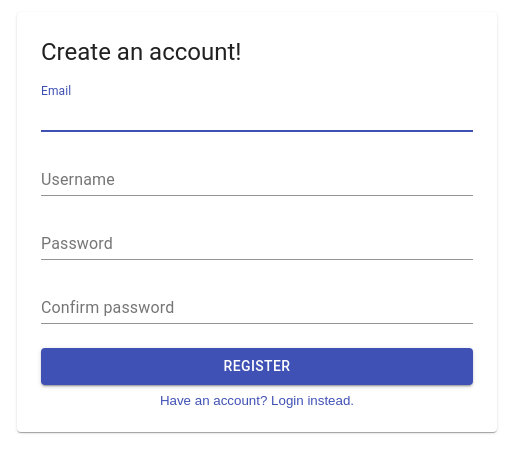
Test: RegisterPage test › should render error on submitting unmatched passwords
Type "pass1" into the password field labelled "Password" at (257, 244), box [41, 228, 473, 260]
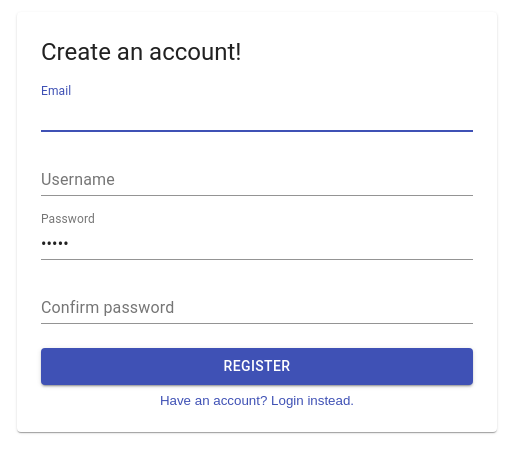
Type "pass2" into the password field labelled "Confirm password" at (257, 308), box [41, 292, 473, 324]
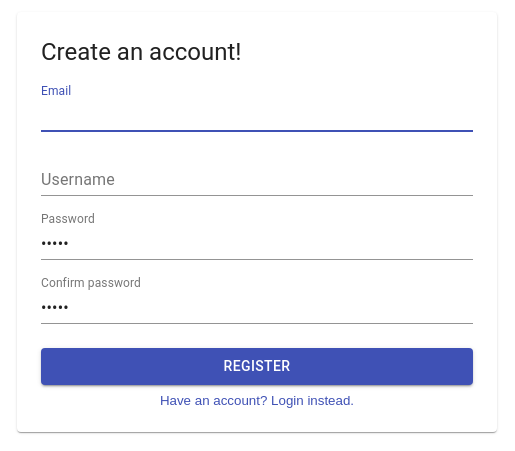
Click the button "Register" at (257, 366), box [41, 348, 473, 384]
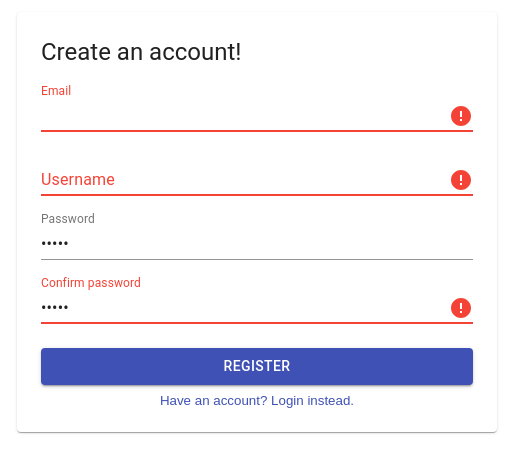
Expected: the icon with test id "confirm-password-error-icon" is shown, [449, 296, 473, 320]
